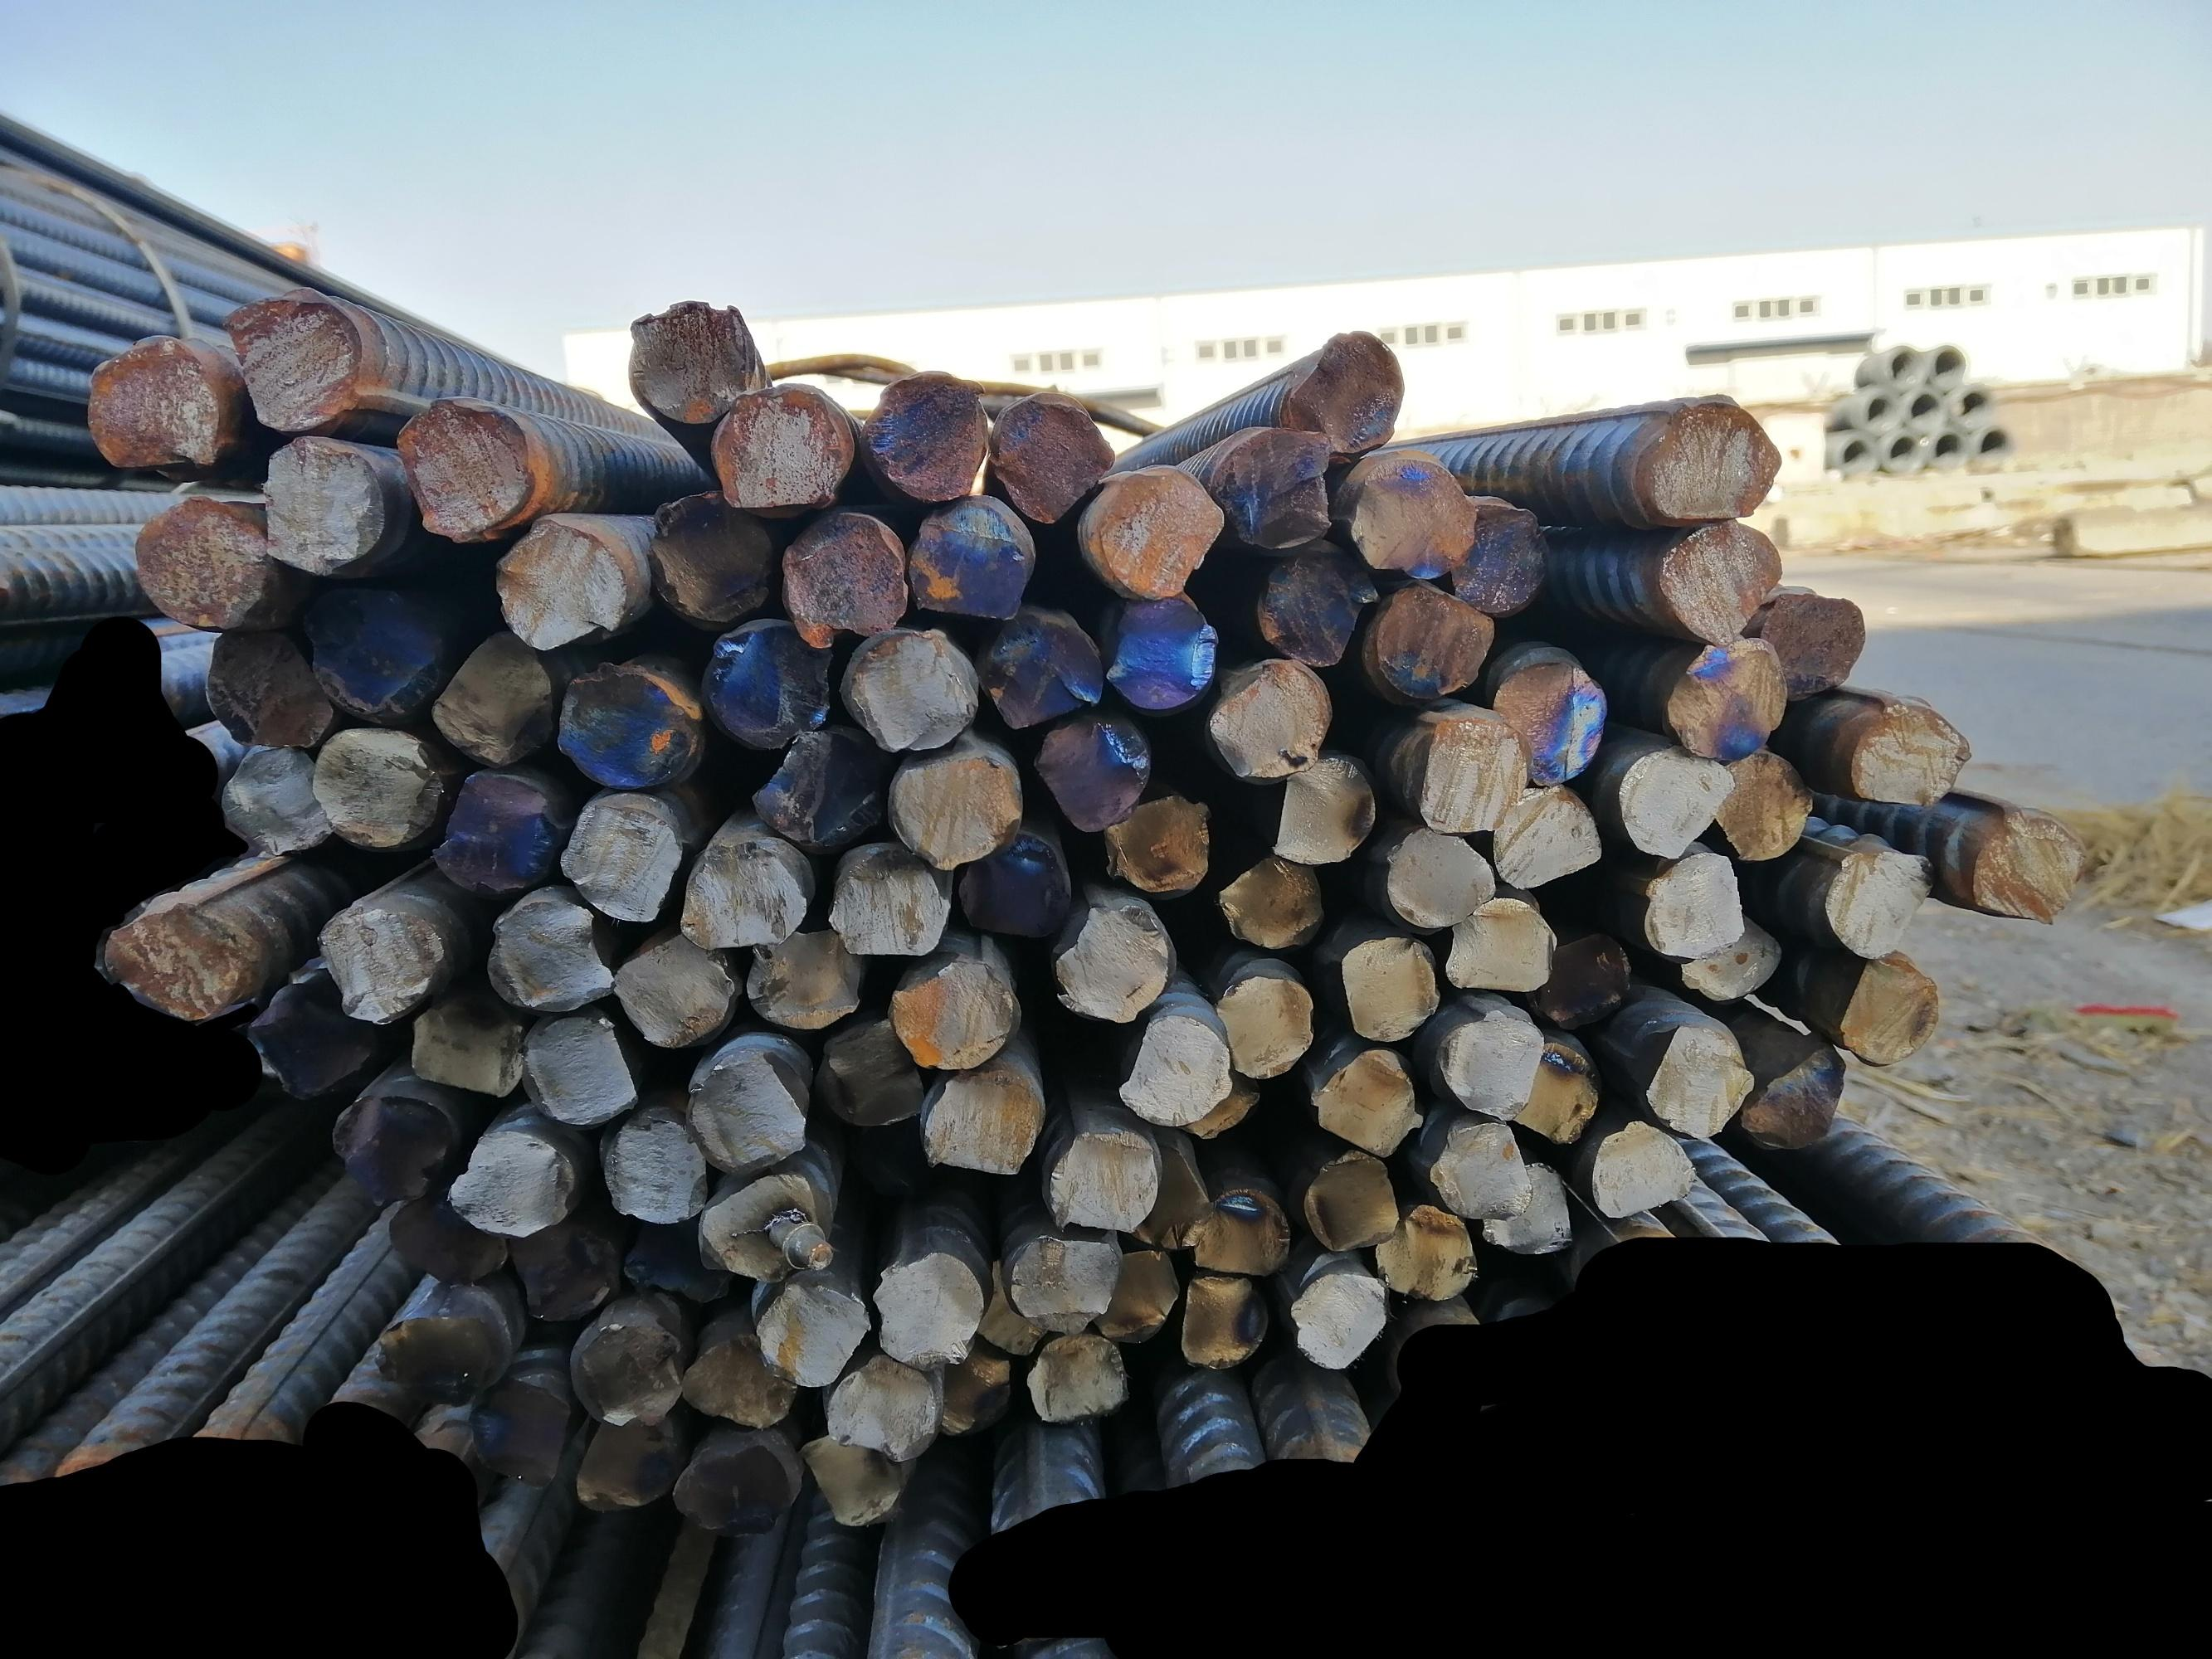bar: (392, 383, 539, 540), (220, 289, 370, 437), (82, 329, 227, 483), (309, 561, 450, 718), (492, 509, 636, 655), (1628, 390, 1785, 525), (192, 598, 335, 742), (554, 779, 690, 929), (551, 655, 699, 791), (647, 490, 786, 633), (253, 432, 390, 577), (704, 376, 847, 514), (777, 502, 910, 650), (309, 897, 450, 1032), (1084, 465, 1227, 598), (129, 491, 267, 627), (418, 634, 558, 769), (103, 894, 246, 1025), (621, 291, 757, 427), (675, 1035, 809, 1171), (744, 732, 892, 854), (861, 371, 990, 511), (474, 885, 610, 1016), (1347, 450, 1478, 586), (885, 742, 1023, 871), (988, 385, 1110, 530), (666, 828, 812, 948), (699, 617, 833, 748), (845, 624, 976, 758), (450, 1108, 580, 1241), (1048, 890, 1178, 1023), (431, 765, 563, 894), (1656, 516, 1788, 645), (607, 927, 739, 1054), (690, 1159, 830, 1277), (1368, 580, 1497, 708), (1490, 655, 1618, 784), (891, 950, 1021, 1075), (312, 713, 436, 845), (328, 1077, 451, 1209), (1842, 688, 1975, 812), (591, 1094, 708, 1232), (512, 1000, 634, 1131), (1206, 648, 1328, 779), (1663, 631, 1785, 762), (812, 1011, 934, 1140), (1217, 415, 1332, 549), (980, 608, 1107, 728), (1611, 741, 1736, 861), (565, 1310, 689, 1431), (251, 964, 368, 1091), (919, 1066, 1044, 1183), (1408, 713, 1529, 833), (908, 498, 1027, 620), (1963, 802, 2078, 927), (824, 847, 952, 960), (736, 922, 865, 1033), (1293, 329, 1408, 453), (1112, 1007, 1232, 1124), (868, 1246, 983, 1368), (1438, 497, 1553, 619), (1255, 538, 1368, 662), (1105, 591, 1217, 716), (373, 1305, 512, 1405), (1042, 1121, 1163, 1236), (1039, 709, 1154, 829), (753, 1276, 873, 1389), (207, 732, 321, 850), (1822, 840, 1935, 958), (818, 1351, 940, 1460), (399, 995, 523, 1103), (1429, 1009, 1543, 1124), (1006, 1223, 1123, 1335), (1642, 1023, 1754, 1140), (462, 1368, 570, 1488), (955, 831, 1070, 943), (1761, 586, 1867, 706), (673, 1436, 797, 1539), (1487, 781, 1604, 889), (1708, 748, 1816, 864), (1835, 951, 1940, 1072), (680, 1324, 797, 1431), (1738, 1037, 1844, 1154), (1213, 960, 1316, 1080), (1269, 753, 1377, 864), (572, 1406, 682, 1514), (1424, 1114, 1534, 1222), (390, 1185, 509, 1284), (1637, 847, 1743, 957), (1311, 1049, 1422, 1154), (1388, 828, 1499, 931), (1443, 894, 1555, 997), (1215, 847, 1328, 948), (1107, 793, 1211, 897), (797, 1429, 903, 1532), (1340, 929, 1440, 1039), (1283, 1269, 1388, 1371), (1590, 1117, 1696, 1218), (1023, 1331, 1130, 1431), (1372, 1202, 1478, 1302), (1192, 1190, 1297, 1290), (1302, 1148, 1400, 1255), (1084, 1243, 1180, 1349), (1532, 936, 1642, 1028), (514, 1223, 614, 1324), (1504, 1040, 1598, 1147), (1173, 1270, 1269, 1371), (1677, 910, 1785, 999), (1482, 1157, 1579, 1255), (624, 1222, 736, 1305), (964, 1255, 1049, 1359), (929, 1344, 1016, 1439)
